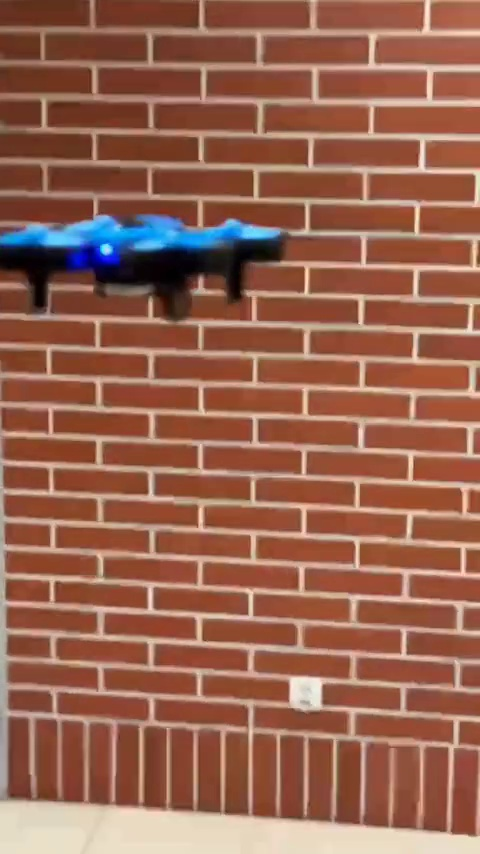drone: (5, 211, 292, 327)
